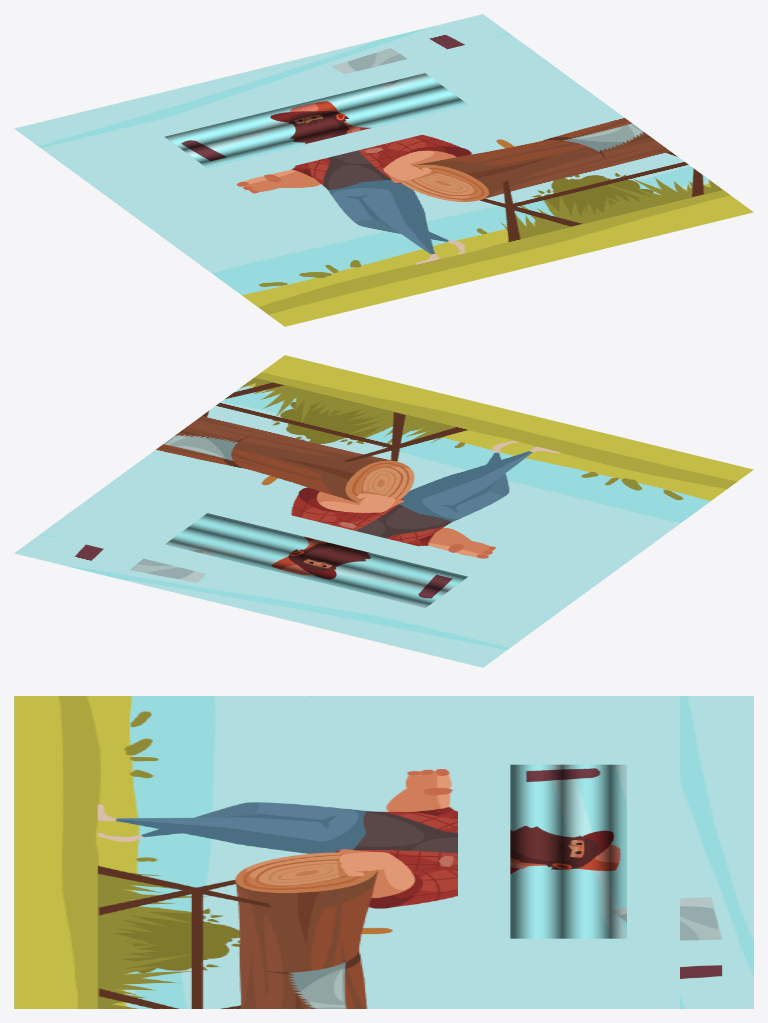
File: Level 158.fbx
The picture shows the model from 3 angles, top to bottom: view 1: azimuth 30°, elevation 25°; view 2: azimuth 150°, elevation 25°; view 3: azimuth 270°, elevation 25°; orthographic projection. The views are drawn at different scales.
Visible parts, largest first — view 1: background, AC; view 2: background, AC; view 3: background, AC.
Boxes of the visible parts, x1,y1,x2,y2 form: background: (14,14,753,326); AC: (164,73,467,167); background: (14,355,753,667); AC: (165,513,467,607); background: (14,696,753,1008); AC: (510,764,626,938).
Bounding box in the file's own units: 2400 × 2.41 × 2400.
